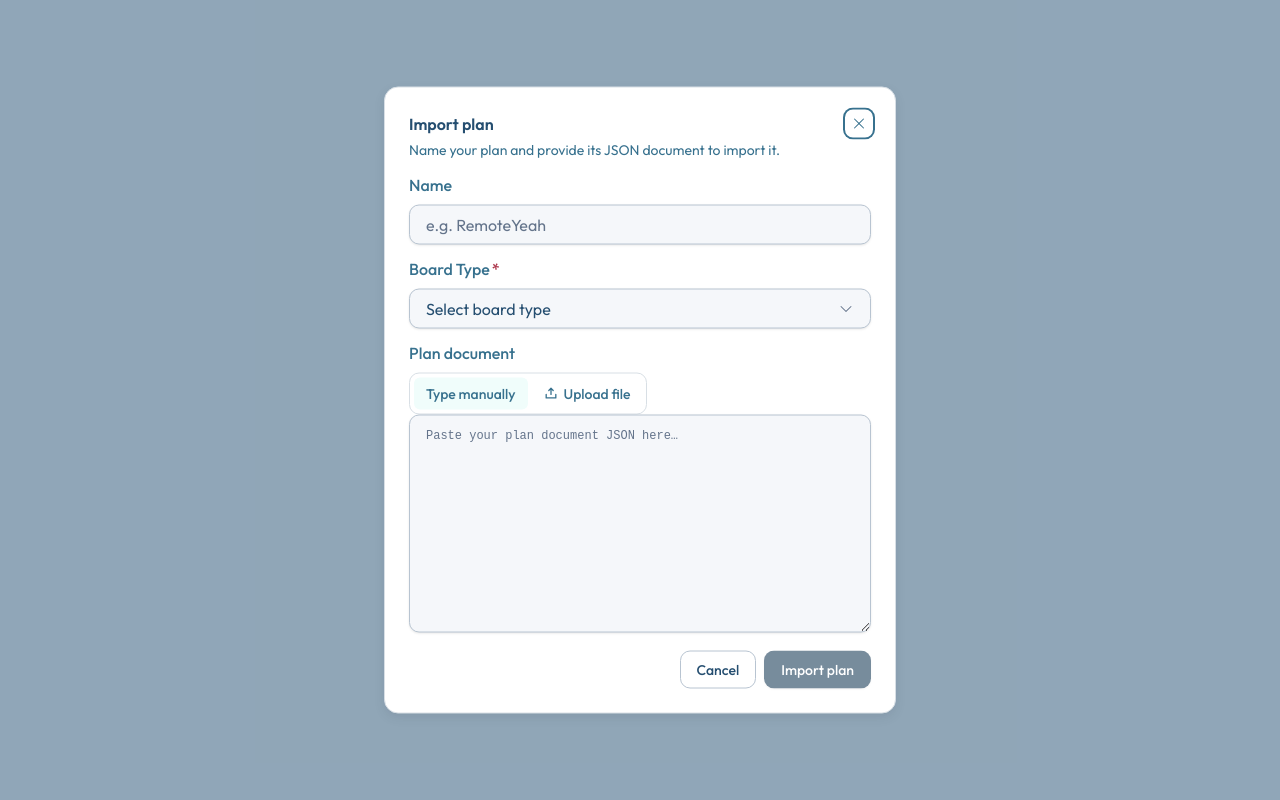
Test: ImportPlanDialog › renders board type dropdown with Sequential and NonSequential options
Check: the field with placeholder "e.g. RemoteYeah" is shown, box [409,204,871,244]
Click the dropdown labelled "Select board type".
click(488, 308)  # box [409,288,871,328]
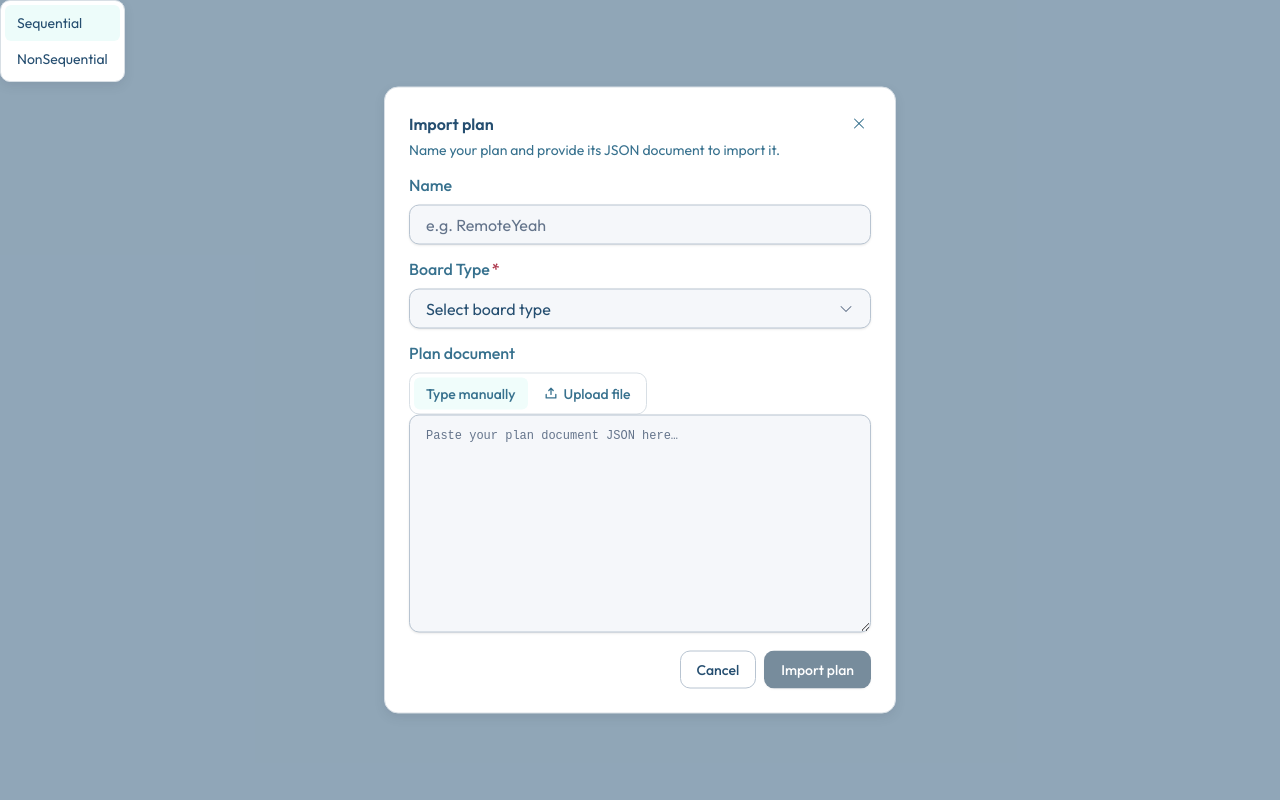
Check: the text "Sequential" is shown, box [17,13,82,33]
Check: the text "NonSequential" is shown, box [17,49,108,69]
